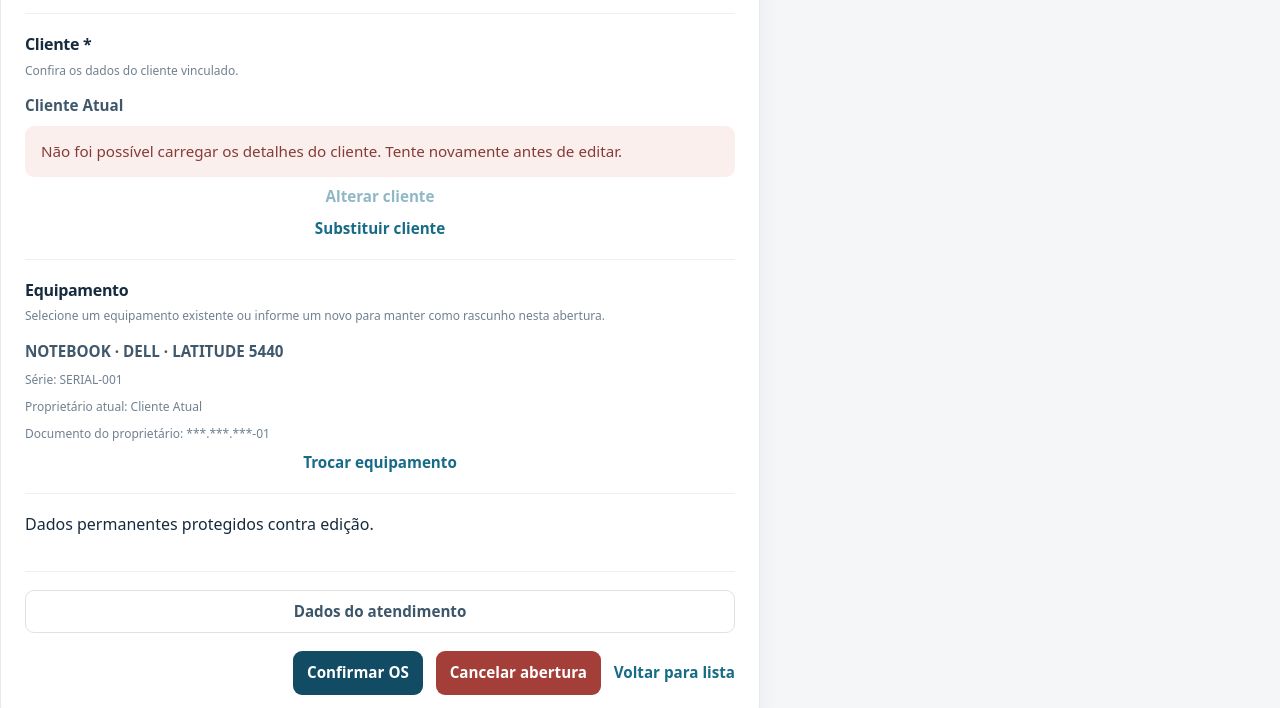
Scenario: ServiceOrderOpeningPage › apresenta mensagem segura para 400 VALIDATION_ERROR
(page scrolled)
What coordinates should you click on to do the following:
click the button "Confirmar OS"
I would click on:
 (358, 673)
Its box is [293, 651, 423, 695].
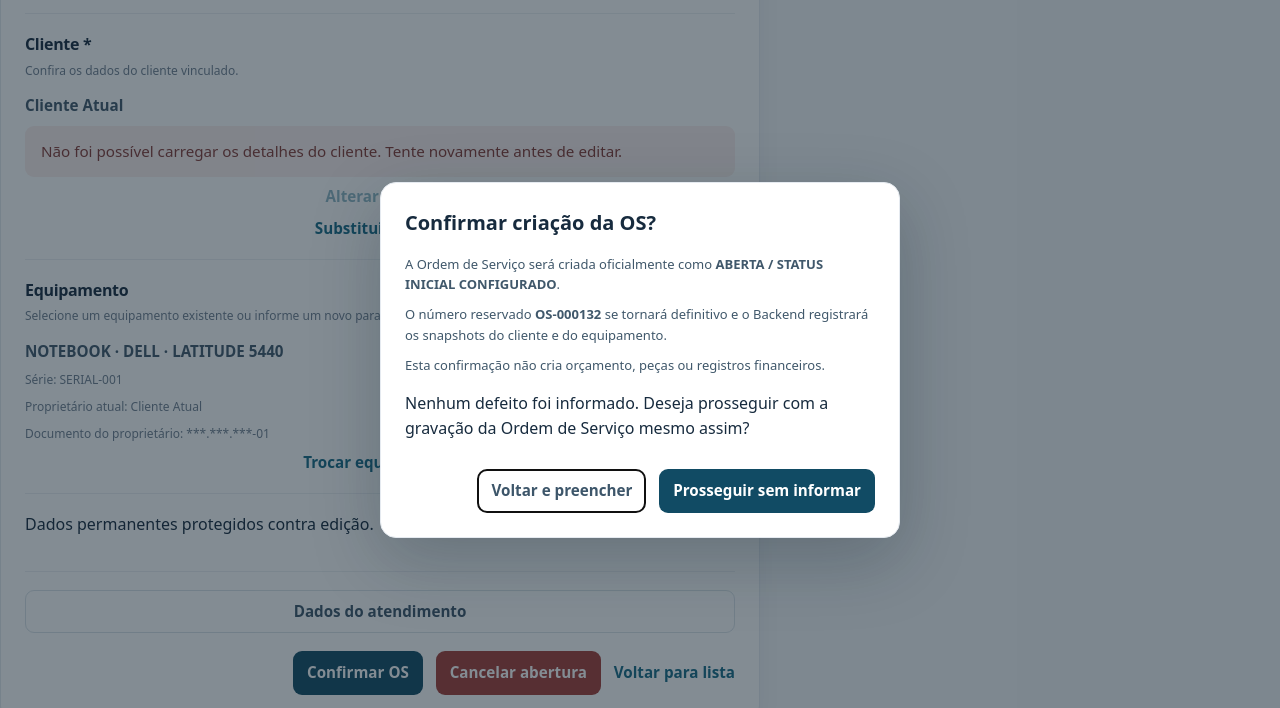
What coordinates should you click on to do the following:
click the button "Prosseguir sem informar"
I would click on:
 (767, 491)
Its box is [659, 469, 875, 513].
(page scrolled)
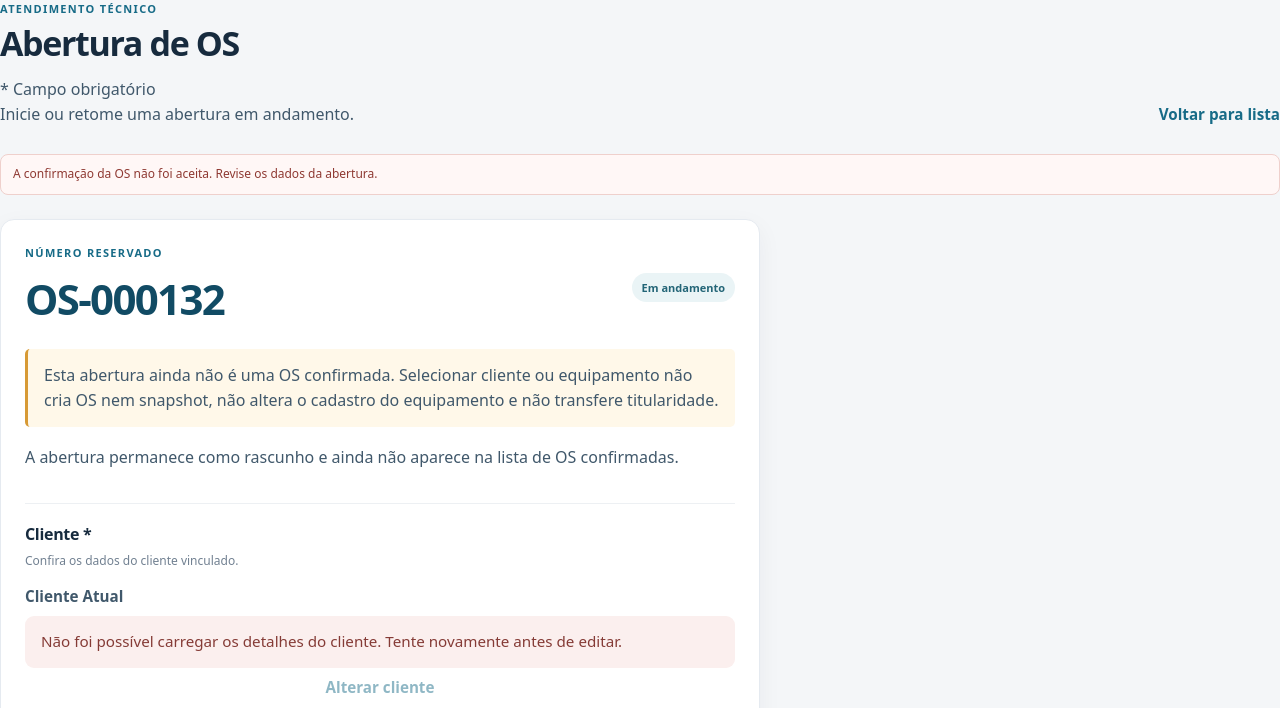
Result: the message reads "A confirmação da OS não foi aceita. Revise os dados da abertura." at [13, 165, 378, 182]
